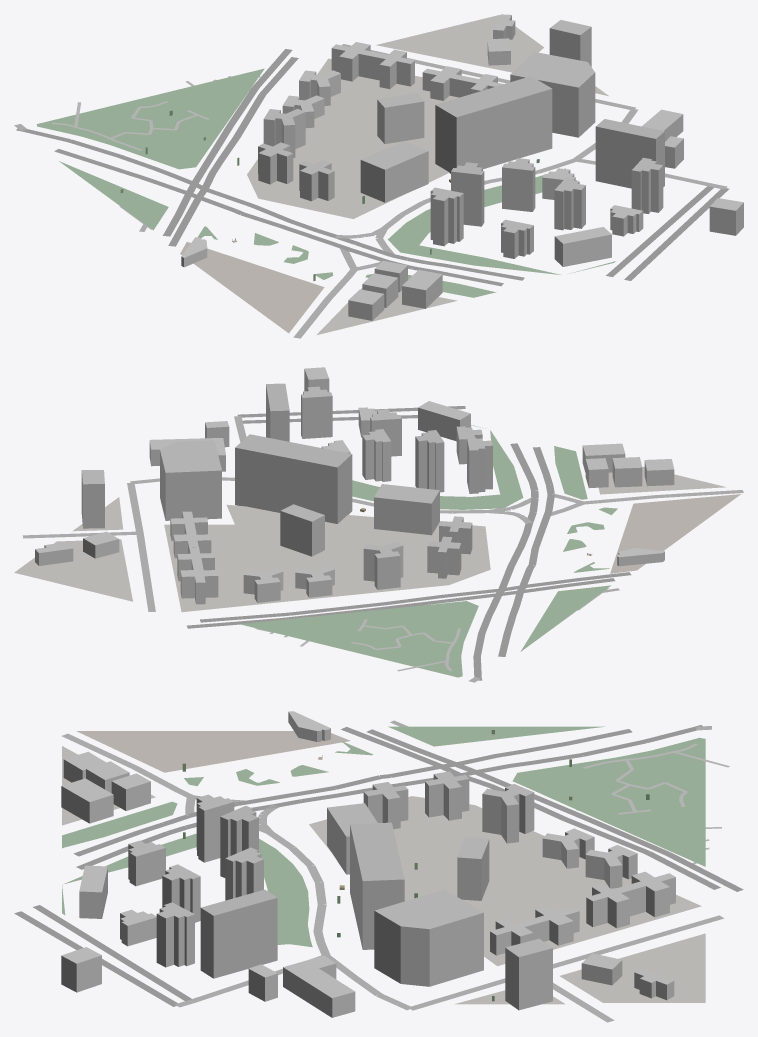
3 views of the same model, one above another, from view 1: azimuth 30°, elevation 25°; view 2: azimuth 150°, elevation 25°; view 3: azimuth 270°, elevation 25° (orthographic). The views are drawn at different scales.
Bounding box in the file's own units: 548 × 63.19 × 567.
